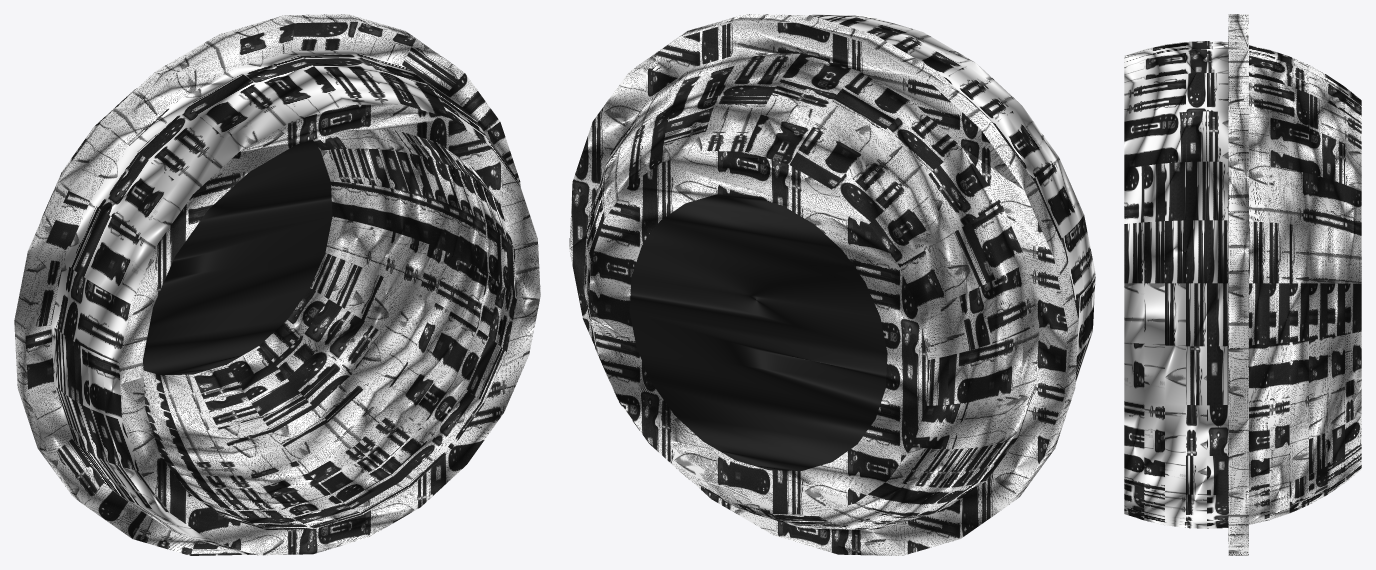
The model's file is model_align.obj.
The picture shows the model from 3 angles, left to right: view 1: azimuth 30°, elevation 25°; view 2: azimuth 150°, elevation 25°; view 3: azimuth 270°, elevation 25°; orthographic projection. The views are drawn at different scales.
Bounding box in the file's own units: 0.1535 × 0.1535 × 0.0674.
